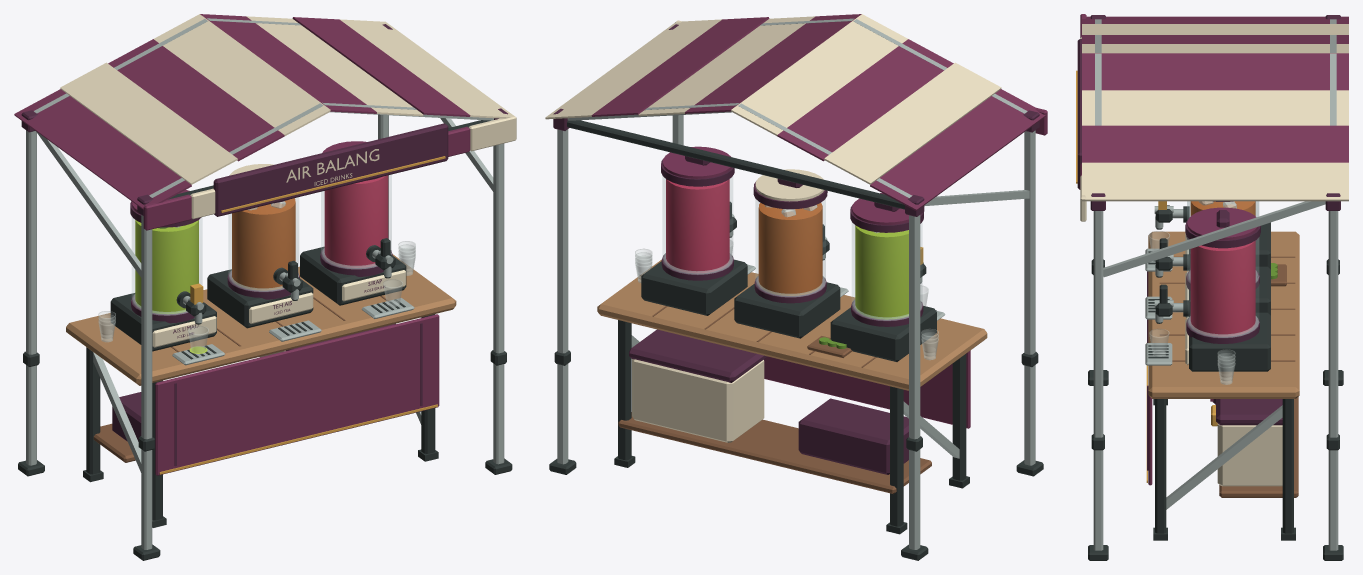
Rendered from ramadan-bazaar-air-balang-stall.glb.
The picture shows the model from 3 angles, left to right: view 1: azimuth 30°, elevation 25°; view 2: azimuth 150°, elevation 25°; view 3: azimuth 270°, elevation 25°; orthographic projection.
Parts seen in each view (by area): view 1: Awning and folding outdoor frame | Warm oat cotton canvas an, Retail counter and cold storage | Mulberry night-market canv, Awning and folding outdoor frame | Mulberry night-market can, Awning and folding outdoor frame | Dull silver contact rack , Retail counter and cold storage | Warm sawn counter boards, Awning and folding outdoor frame | Dark eggplant awning unde, Three air balang vessels and taps | Graphite collapsible fra, Three air balang vessels and taps | Illustrative rose-red dr, Three air balang vessels and taps | Illustrative reddish amb, Three air balang vessels and taps | Illustrative yellow-gree, Retail counter and cold storage | Graphite collapsible frame, Three air balang vessels and taps | Warm oat cotton canvas a (+8 smaller); view 2: Awning and folding outdoor frame | Warm oat cotton canvas an, Awning and folding outdoor frame | Mulberry night-market can, Awning and folding outdoor frame | Dull silver contact rack , Retail counter and cold storage | Warm sawn counter boards, Three air balang vessels and taps | Graphite collapsible fra, Retail counter and cold storage | Dark eggplant awning under, Retail counter and cold storage | Warm oat cotton canvas and, Retail counter and cold storage | Graphite collapsible frame, Retail counter and cold storage | Recessed dark cutting-boar, Three air balang vessels and taps | Illustrative reddish amb, Three air balang vessels and taps | Illustrative rose-red dr, Awning and folding outdoor frame | Graphite collapsible fram (+9 smaller); view 3: Awning and folding outdoor frame | Warm oat cotton canvas an, Awning and folding outdoor frame | Mulberry night-market can, Retail counter and cold storage | Warm sawn counter boards, Awning and folding outdoor frame | Dull silver contact rack , Three air balang vessels and taps | Illustrative rose-red dr, Three air balang vessels and taps | Graphite collapsible fra, Retail counter and cold storage | Graphite collapsible frame, Retail counter and cold storage | Warm oat cotton canvas and, Retail counter and cold storage | Dark eggplant awning under, Three air balang vessels and taps | Dark eggplant awning und, Retail counter and cold storage | Recessed dark cutting-boar, Retail counter and cold storage | Dull silver contact rack a (+10 smaller).
Part boxes in pixels (bbox=[...]): Awning and folding outdoor frame | Warm oat cotton canvas an: bbox=[60, 14, 516, 219]; Retail counter and cold storage | Mulberry night-market canv: bbox=[155, 314, 439, 475]; Awning and folding outdoor frame | Mulberry night-market can: bbox=[14, 14, 470, 230]; Awning and folding outdoor frame | Dull silver contact rack : bbox=[26, 18, 504, 549]; Retail counter and cold storage | Warm sawn counter boards: bbox=[66, 254, 456, 385]; Awning and folding outdoor frame | Dark eggplant awning unde: bbox=[21, 24, 507, 216]; Three air balang vessels and taps | Graphite collapsible fra: bbox=[110, 238, 406, 351]; Three air balang vessels and taps | Illustrative rose-red dr: bbox=[324, 175, 388, 267]; Three air balang vessels and taps | Illustrative reddish amb: bbox=[232, 198, 295, 290]; Three air balang vessels and taps | Illustrative yellow-gree: bbox=[135, 220, 198, 313]; Retail counter and cold storage | Graphite collapsible frame: bbox=[83, 314, 438, 527]; Three air balang vessels and taps | Warm oat cotton canvas a: bbox=[152, 164, 405, 347]; Awning and folding outdoor frame | Warm oat cotton canvas an: bbox=[545, 14, 1001, 184]; Awning and folding outdoor frame | Mulberry night-market can: bbox=[591, 14, 1047, 210]; Awning and folding outdoor frame | Dull silver contact rack : bbox=[557, 18, 1035, 549]; Retail counter and cold storage | Warm sawn counter boards: bbox=[597, 259, 987, 390]; Three air balang vessels and taps | Graphite collapsible fra: bbox=[641, 201, 936, 361]; Retail counter and cold storage | Dark eggplant awning under: bbox=[629, 329, 908, 474]; Retail counter and cold storage | Warm oat cotton canvas and: bbox=[632, 359, 764, 442]; Retail counter and cold storage | Graphite collapsible frame: bbox=[614, 320, 969, 534]; Retail counter and cold storage | Recessed dark cutting-boar: bbox=[618, 306, 931, 493]; Three air balang vessels and taps | Illustrative reddish amb: bbox=[758, 203, 822, 295]; Three air balang vessels and taps | Illustrative rose-red dr: bbox=[666, 179, 729, 272]; Awning and folding outdoor frame | Graphite collapsible fram: bbox=[549, 120, 1043, 560]; Awning and folding outdoor frame | Warm oat cotton canvas an: bbox=[1080, 24, 1348, 221]; Awning and folding outdoor frame | Mulberry night-market can: bbox=[1080, 14, 1348, 176]; Retail counter and cold storage | Warm sawn counter boards: bbox=[1148, 231, 1299, 398]; Awning and folding outdoor frame | Dull silver contact rack : bbox=[1093, 19, 1338, 550]; Three air balang vessels and taps | Illustrative rose-red dr: bbox=[1190, 240, 1255, 336]; Three air balang vessels and taps | Graphite collapsible fra: bbox=[1155, 205, 1270, 371]; Retail counter and cold storage | Graphite collapsible frame: bbox=[1153, 399, 1295, 540]; Retail counter and cold storage | Warm oat cotton canvas and: bbox=[1217, 423, 1282, 486]; Retail counter and cold storage | Dark eggplant awning under: bbox=[1147, 271, 1282, 470]; Three air balang vessels and taps | Dark eggplant awning und: bbox=[1185, 201, 1260, 343]; Retail counter and cold storage | Recessed dark cutting-boar: bbox=[1159, 256, 1298, 497]; Retail counter and cold storage | Dull silver contact rack a: bbox=[1166, 405, 1282, 509].
Size of the model in its own units: 2.36 by 2.48 by 1.48.
